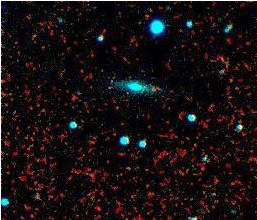star: (111, 78, 141, 108)
